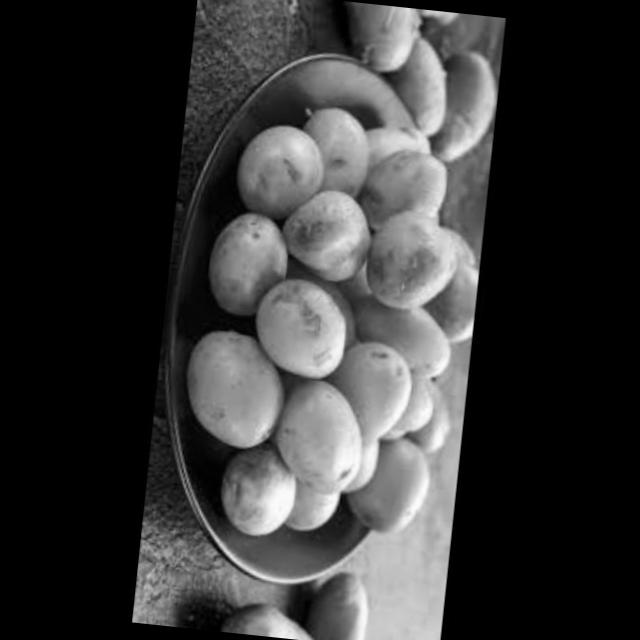khoai tay: (167, 332, 296, 454), (196, 206, 306, 328), (268, 376, 372, 503), (363, 205, 473, 318), (250, 277, 358, 392), (342, 433, 442, 552), (416, 43, 504, 178), (223, 116, 328, 226), (324, 334, 424, 449), (280, 189, 380, 298), (298, 106, 386, 225), (217, 440, 306, 548), (352, 294, 462, 378), (364, 145, 454, 232), (389, 31, 457, 146), (328, 0, 436, 71), (295, 558, 382, 640), (202, 590, 323, 640), (398, 381, 464, 466), (275, 474, 352, 544)
